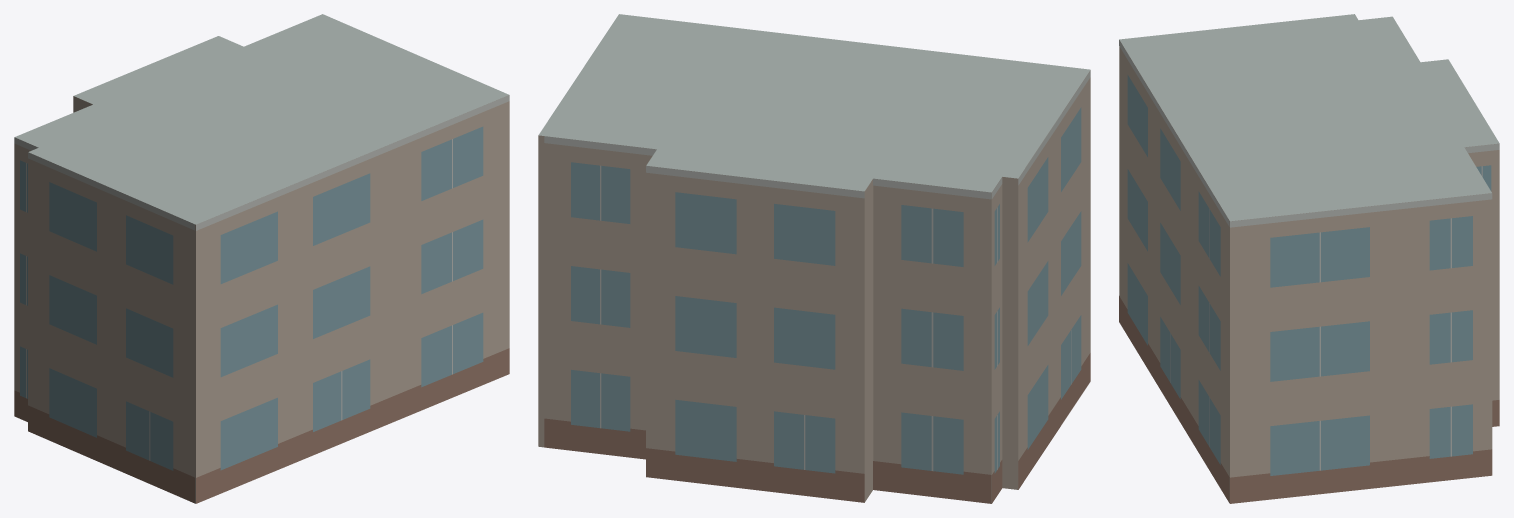
File: survey-upis-32474319.glb
3 renders of one model, left to right at view 1: azimuth 30°, elevation 25°; view 2: azimuth 150°, elevation 25°; view 3: azimuth 270°, elevation 25°, orthographic. The views are drawn at different scales.
Visible parts, largest first — view 1: survey-upis-32474319.tmp; view 2: survey-upis-32474319.tmp; view 3: survey-upis-32474319.tmp.
Boxes of the visible parts, x1,y1,x2,y2 form: survey-upis-32474319.tmp: (14, 14, 509, 503); survey-upis-32474319.tmp: (538, 14, 1090, 503); survey-upis-32474319.tmp: (1119, 14, 1499, 503).
Bounding box in the file's own units: 17.13 × 10.88 × 13.29.
